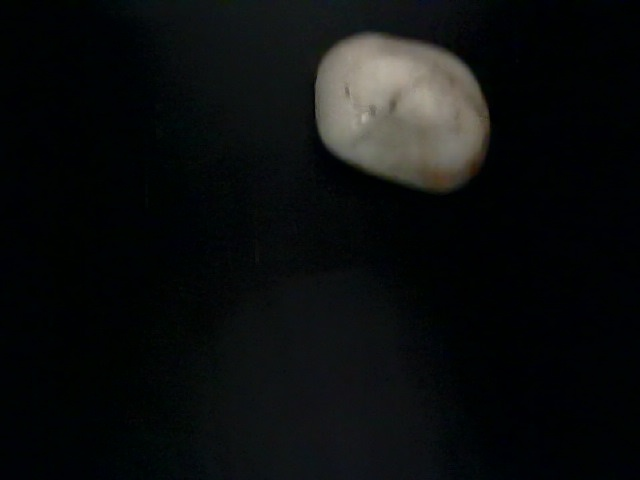QTLJ: (317, 56, 547, 377)
